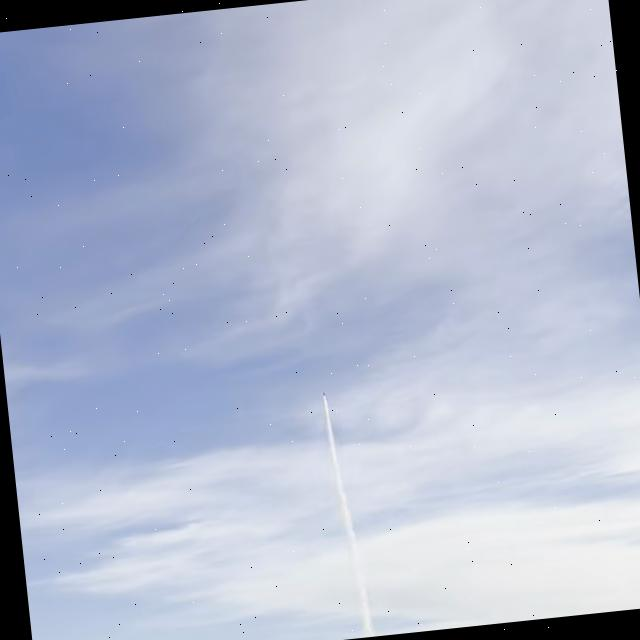smoke_trail_with_rocket: (323, 393, 375, 637)
